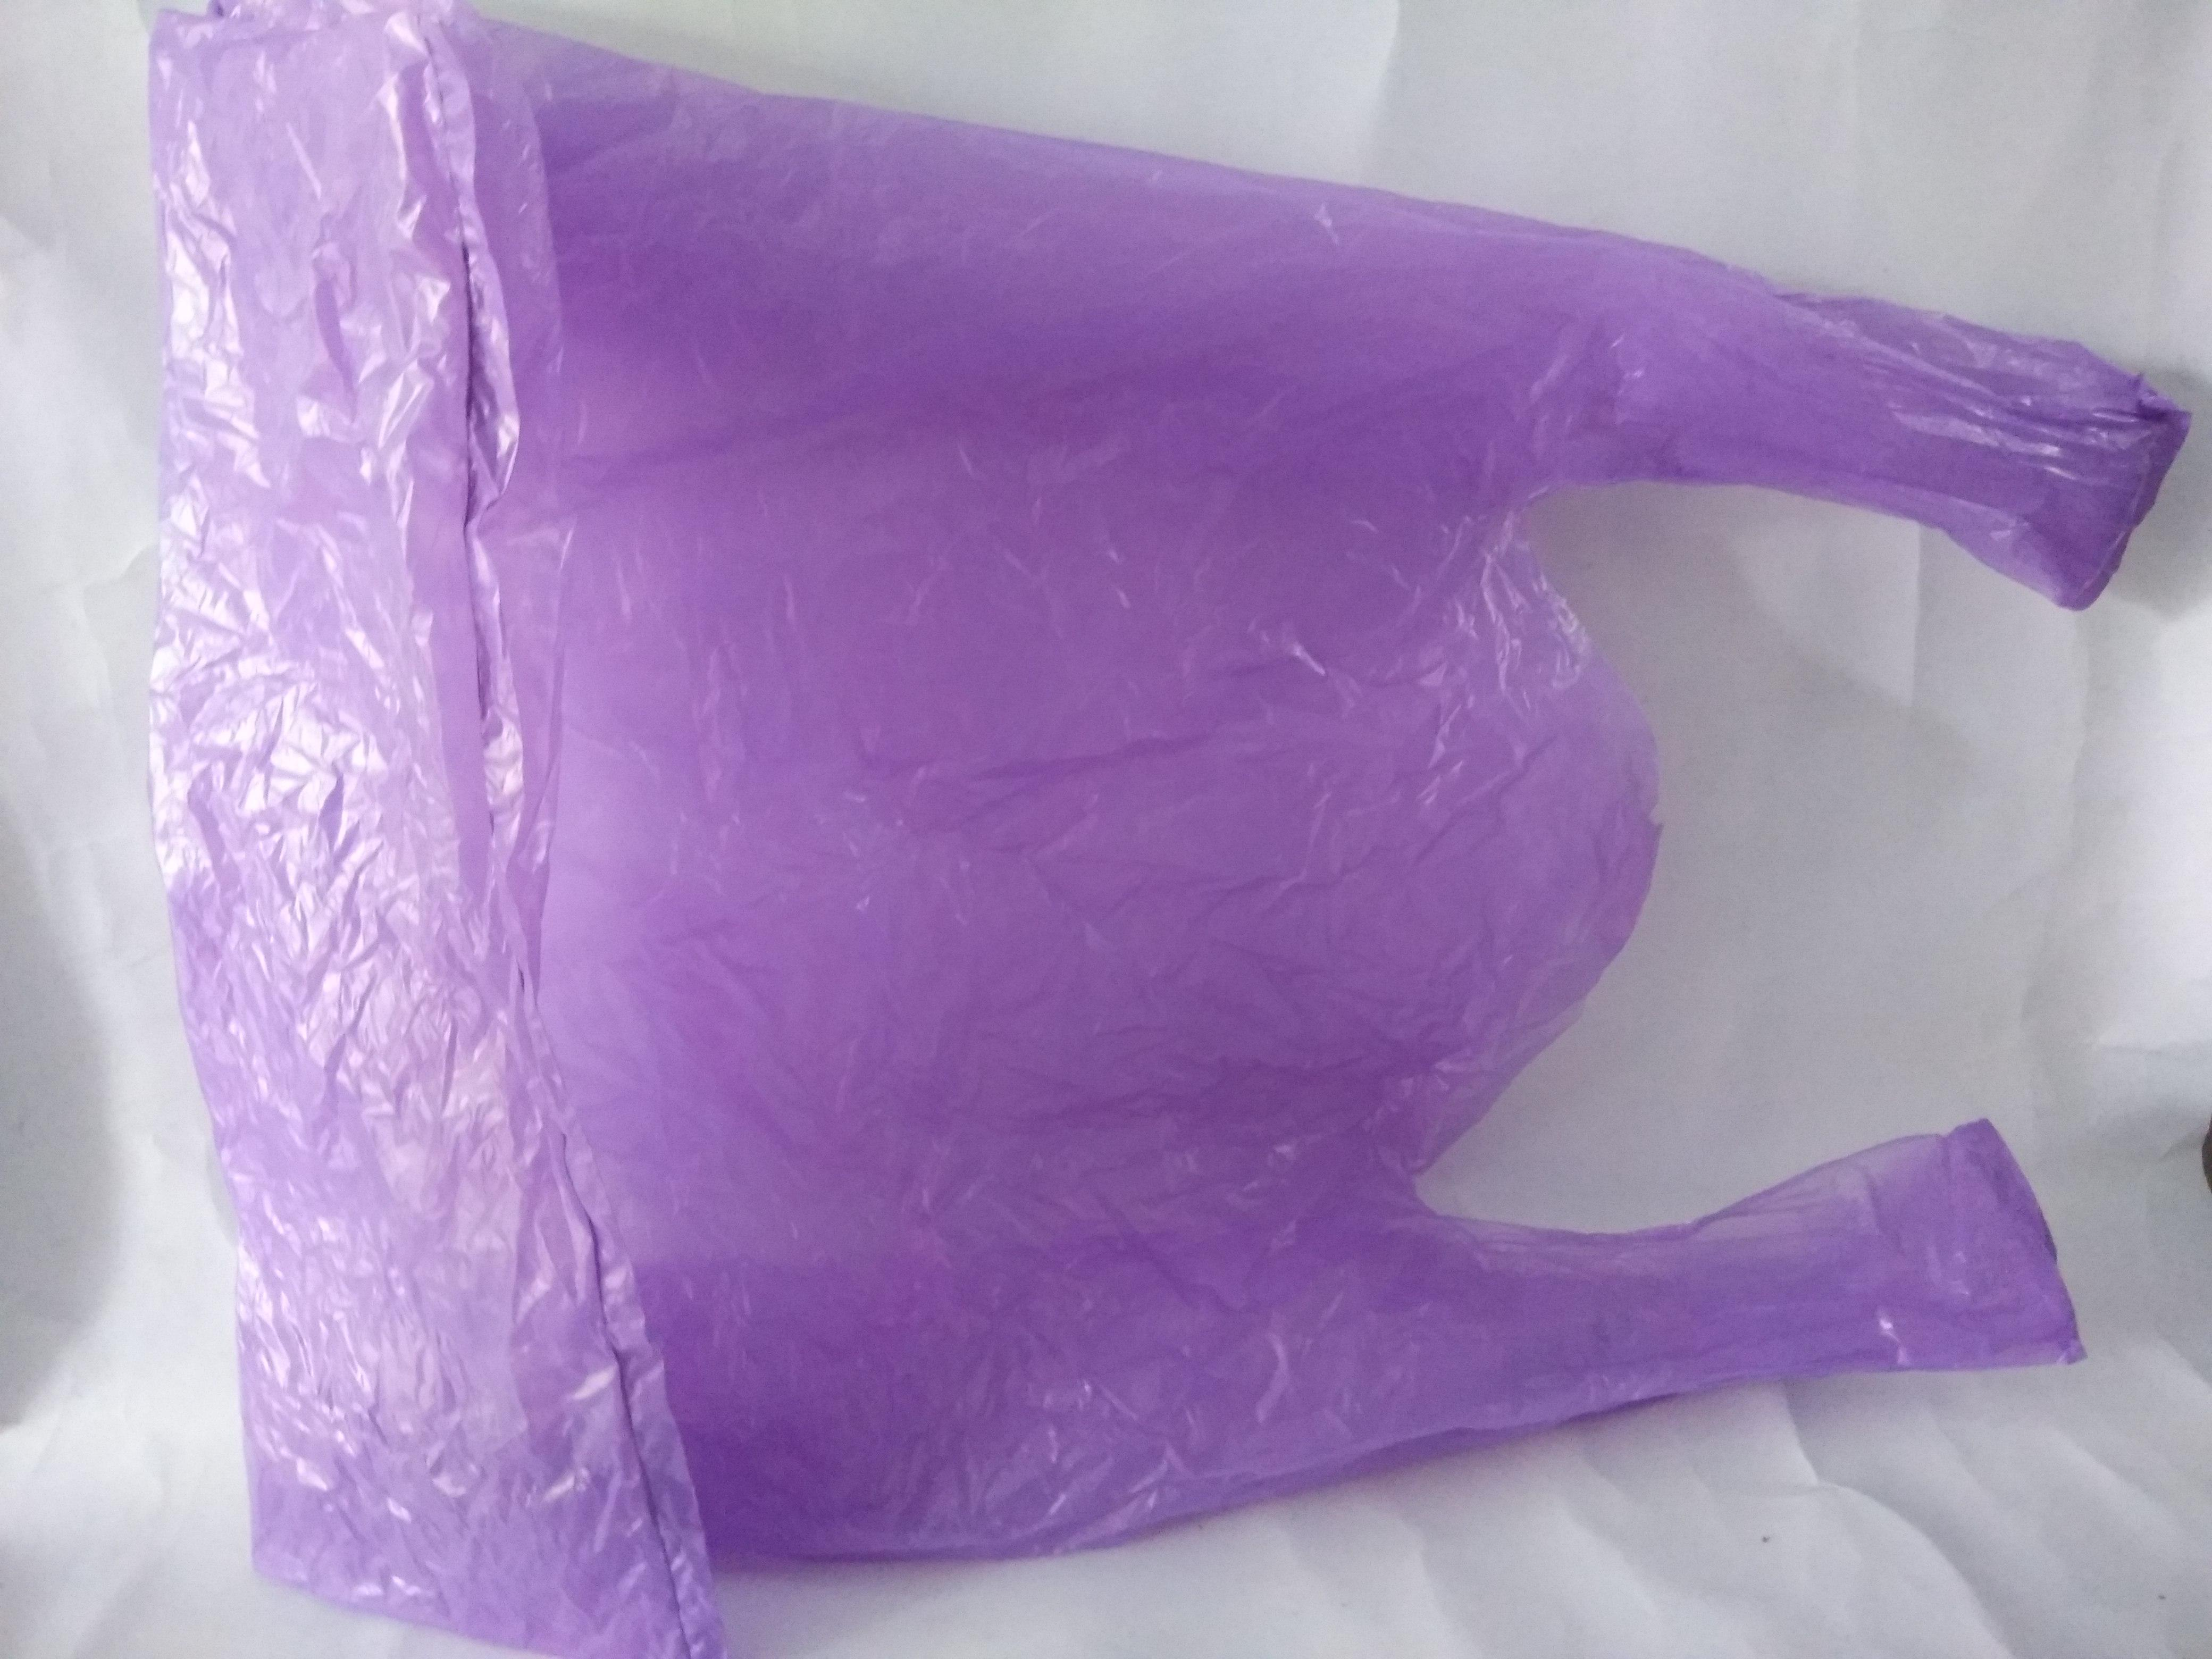LDPE: (155, 0, 2188, 1659)
